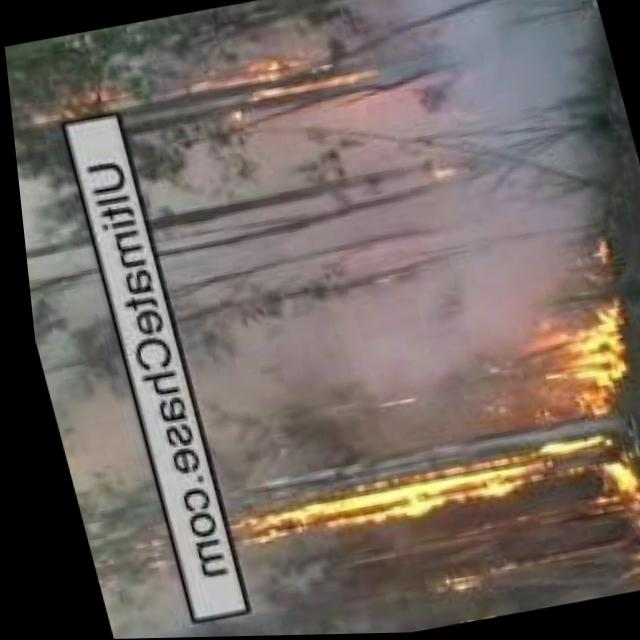Fire: (205, 454, 573, 557), (530, 295, 640, 598), (204, 34, 395, 128), (407, 549, 520, 605), (17, 88, 104, 132), (442, 603, 492, 625)
